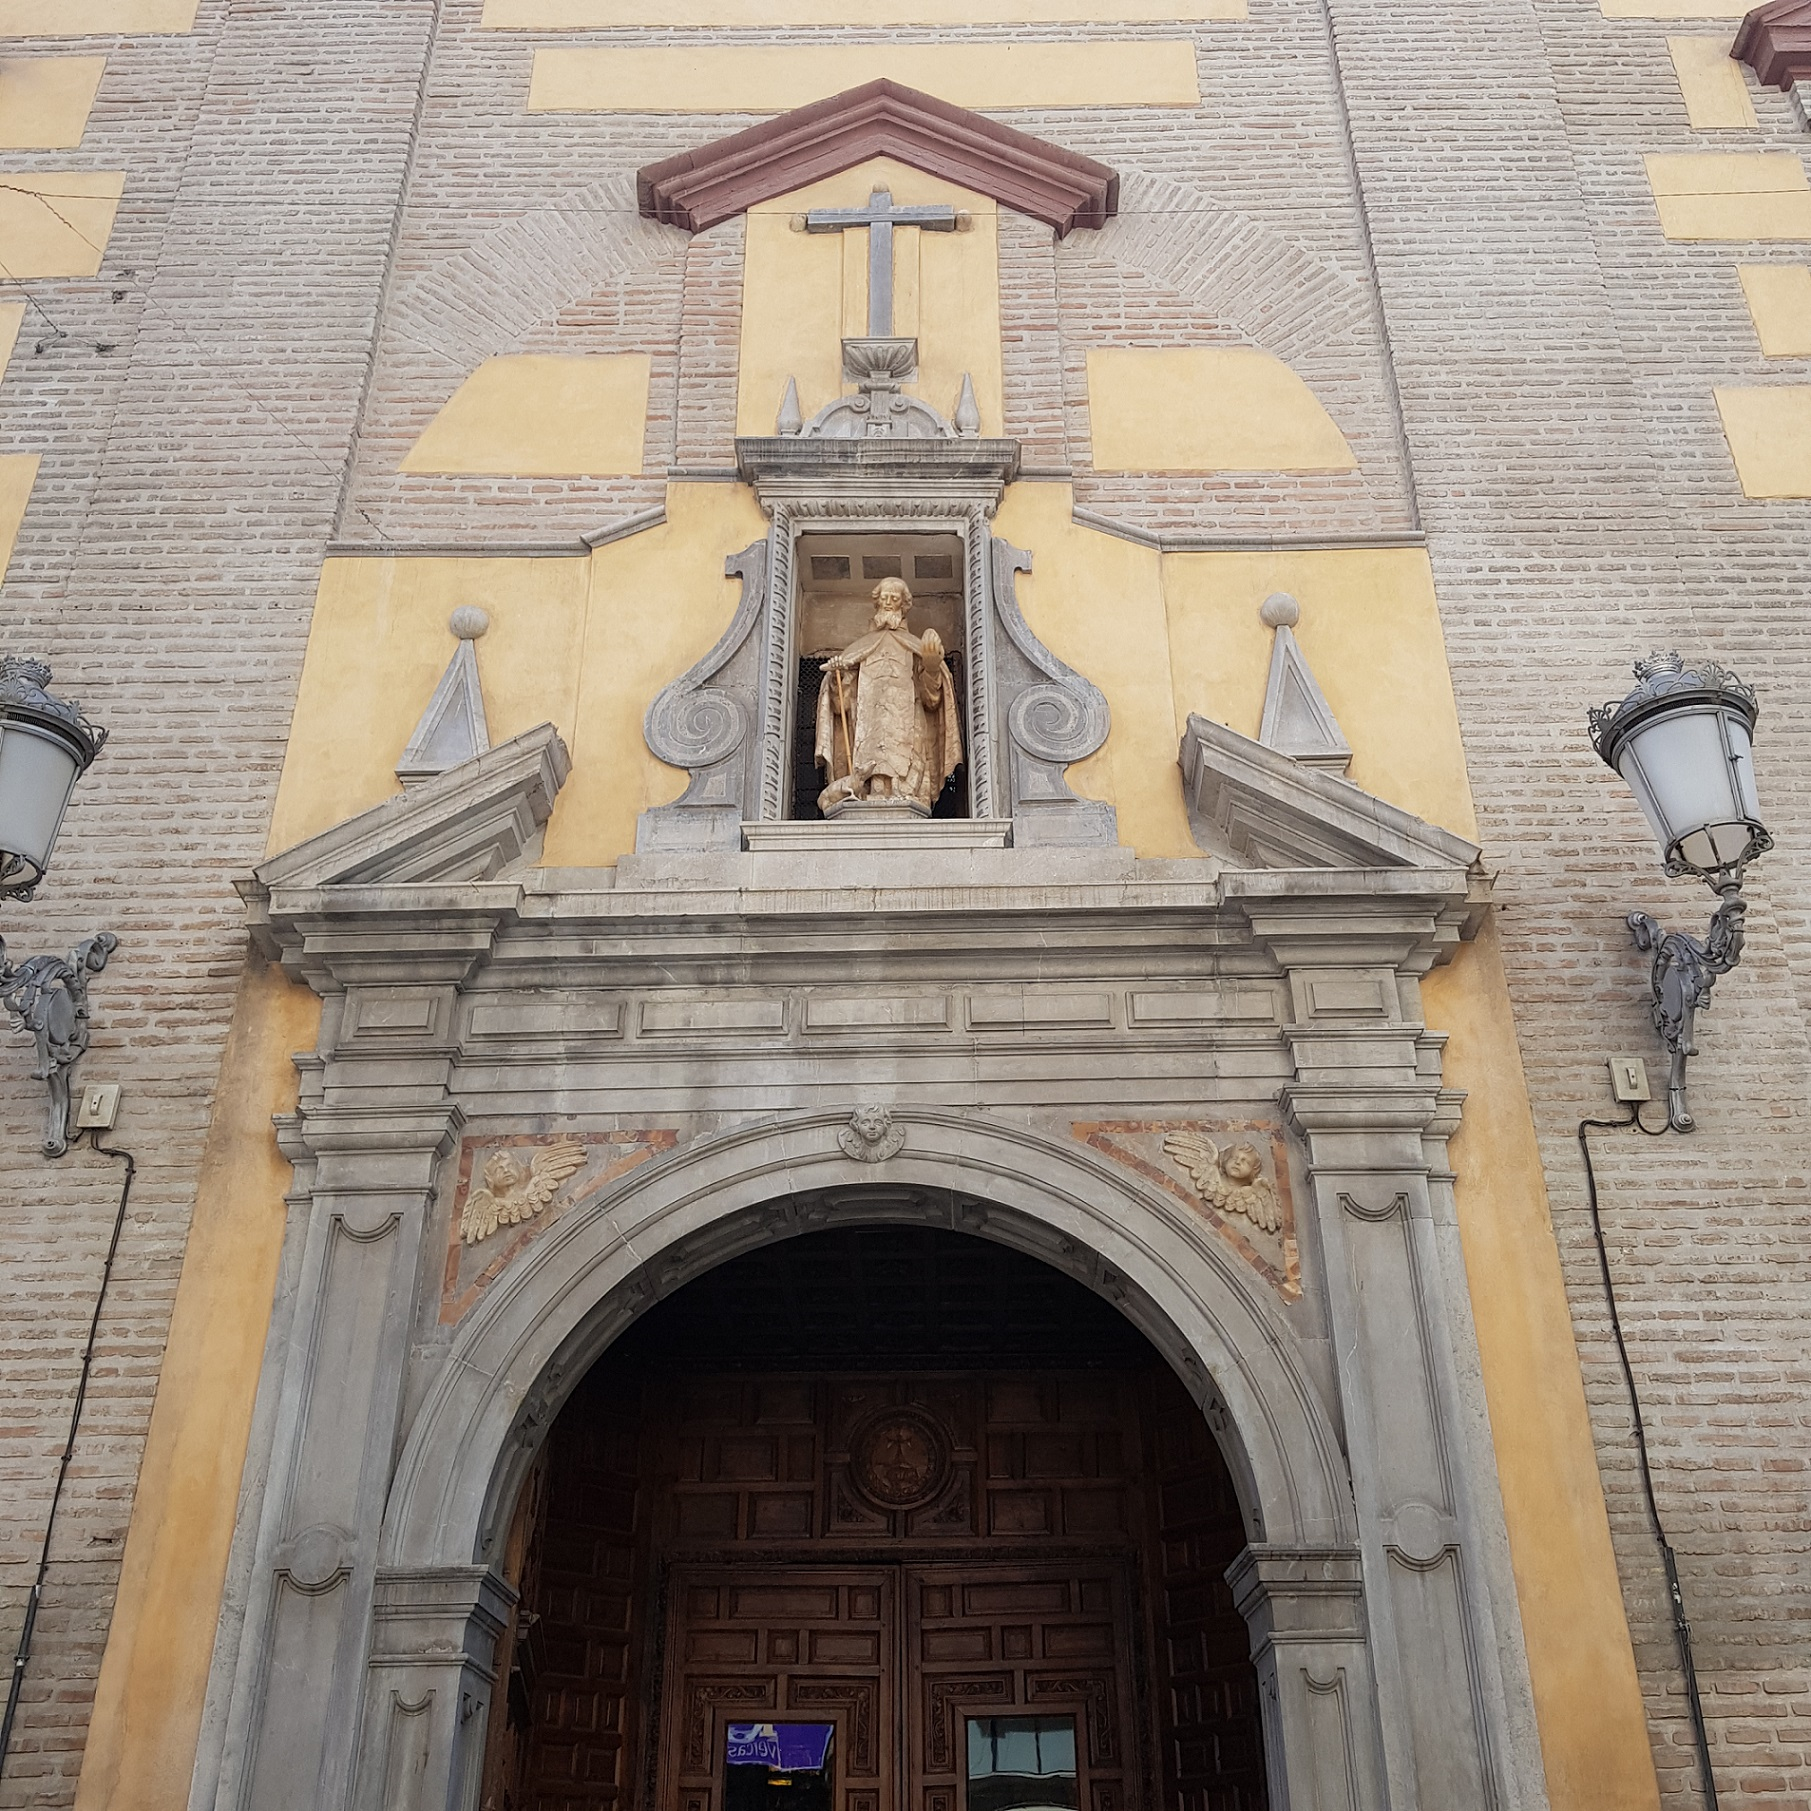arco-medio-punto: (443, 1159, 1322, 1693)
fronton-partido: (234, 693, 1512, 955)
